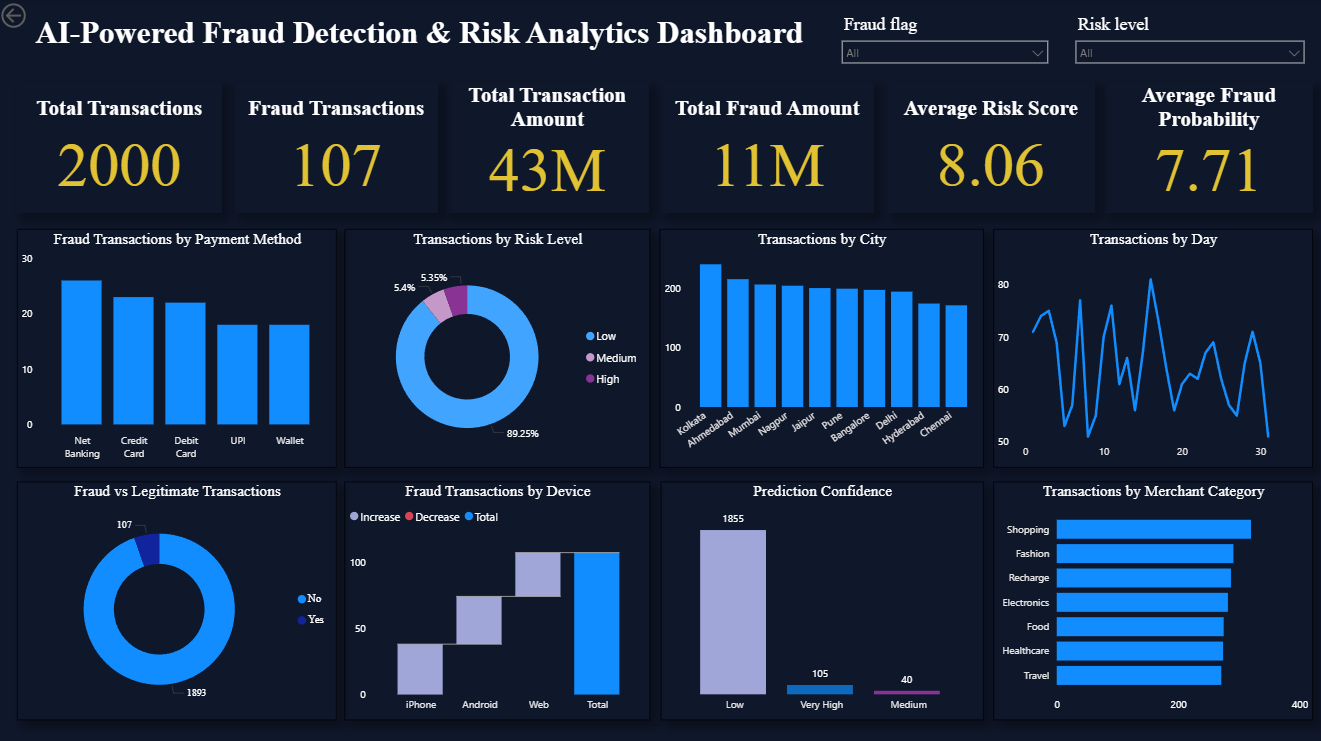

This screenshot's page, from the dashboard's own definition file:
{"tool":"powerbi","page":{"name":"Page 1","canvas":[1600,900],"ordinal":0},"visuals":[{"type":"card","title":"Fraud Transactions","fields":{"Values":["CountNonNull(public fraud_transactions.fraud_flag)"]},"box":[286.5,99.5,245.3,159.5],"z":0},{"type":"card","title":"Total Transactions","fields":{"Values":["CountNonNull(public fraud_transactions.transaction_id)"]},"box":[24,99.5,247,159.5],"z":1000},{"type":"card","title":"Total Fraud Amount","fields":{"Values":["Sum(public fraud_transactions.amount)"]},"box":[801,99.5,257.3,159.5],"z":2000},{"type":"card","title":"Average Risk Score","fields":{"Values":["Avg(public fraud_transactions.risk_score)"]},"box":[1073.8,99.5,250.4,159.5],"z":3000},{"type":"actionButton","box":[0,0,100,40],"z":4000},{"type":"donutChart","title":"Transactions by Risk Level","fields":{"Category":["public fraud_transactions.risk_level"],"Y":["CountNonNull(public fraud_transactions.transaction_id)"]},"box":[418.5,277.9,368.8,288.2],"z":5000},{"type":"clusteredColumnChart","title":"Transactions by City","fields":{"Category":["public fraud_transactions.city"],"Y":["CountNonNull(public fraud_transactions.transaction_id)"]},"box":[799.3,277.9,391.1,288.2],"z":6000},{"type":"barChart","title":"Transactions by Merchant Category","fields":{"Category":["public fraud_transactions.merchant_category"],"Y":["CountNonNull(public fraud_transactions.transaction_id)"]},"box":[1202.4,581.5,385.9,288.2],"z":7000},{"type":"clusteredColumnChart","title":"Fraud Transactions by Payment Method","fields":{"Category":["public fraud_transactions.payment_method"],"Y":["CountNonNull(public fraud_transactions.transaction_id)"]},"box":[24,277.9,385.9,288.2],"z":8000},{"type":"waterfallChart","title":"Fraud Transactions by Device","fields":{"Category":["public fraud_transactions.device"],"Y":["CountNonNull(public fraud_transactions.transaction_id)"]},"box":[418.5,581.5,368.8,288.2],"z":9000},{"type":"lineChart","title":"Transactions by Day","fields":{"Category":["public fraud_transactions.transaction_time.Variation.Date Hierarchy.Day"],"Y":["CountNonNull(public fraud_transactions.transaction_id)"]},"box":[1202.4,277.9,385.9,288.2],"z":10000},{"type":"slicer","fields":{"Values":["public fraud_transactions.risk_level"]},"box":[1291.6,13.7,296.7,73.8],"z":11000},{"type":"slicer","fields":{"Values":["public fraud_transactions.fraud_flag"]},"box":[1008.6,13.7,269.3,73.8],"z":12000},{"type":"textbox","box":[24,13.7,970.8,73.8],"z":13000},{"type":"card","title":"Average Fraud Probability","fields":{"Values":["Avg(public fraud_transactions.fraud_probability)"]},"box":[1336.2,99.5,252.1,159.5],"z":14000},{"type":"donutChart","title":"Fraud vs Legitimate Transactions","fields":{"Category":["public fraud_transactions.fraud_flag"],"Y":["CountNonNull(public fraud_transactions.transaction_id)"]},"box":[24,581.5,385.9,288.2],"z":15000},{"type":"lineStackedColumnComboChart","title":"Prediction Confidence","fields":{"Category":["public fraud_transactions.prediction_confidence"],"Y":["CountNonNull(public fraud_transactions.transaction_id)"]},"box":[801,581.5,389.4,288.2],"z":16000},{"type":"card","title":"Total Transaction Amount","fields":{"Values":["Sum(public fraud_transactions.amount)"]},"box":[542,99.5,245.3,159.5],"z":17000}]}

Visuals, with their boxes in screenshot pixels (x1, y1, x2, y2), scaled from the page's 1600x900 canvas onto the 1321x741 screenshot:
"Fraud Transactions" card: BBox(237, 82, 439, 213)
"Total Transactions" card: BBox(20, 82, 224, 213)
"Total Fraud Amount" card: BBox(661, 82, 874, 213)
"Average Risk Score" card: BBox(887, 82, 1093, 213)
actionButton: BBox(0, 0, 83, 33)
"Transactions by Risk Level" donutChart: BBox(346, 229, 650, 466)
"Transactions by City" clusteredColumnChart: BBox(660, 229, 983, 466)
"Transactions by Merchant Category" barChart: BBox(993, 479, 1311, 716)
"Fraud Transactions by Payment Method" clusteredColumnChart: BBox(20, 229, 338, 466)
"Fraud Transactions by Device" waterfallChart: BBox(346, 479, 650, 716)
"Transactions by Day" lineChart: BBox(993, 229, 1311, 466)
slicer - public fraud_transactions.risk_level: BBox(1066, 11, 1311, 72)
slicer - public fraud_transactions.fraud_flag: BBox(833, 11, 1055, 72)
textbox: BBox(20, 11, 821, 72)
"Average Fraud Probability" card: BBox(1103, 82, 1311, 213)
"Fraud vs Legitimate Transactions" donutChart: BBox(20, 479, 338, 716)
"Prediction Confidence" lineStackedColumnComboChart: BBox(661, 479, 983, 716)
"Total Transaction Amount" card: BBox(447, 82, 650, 213)
